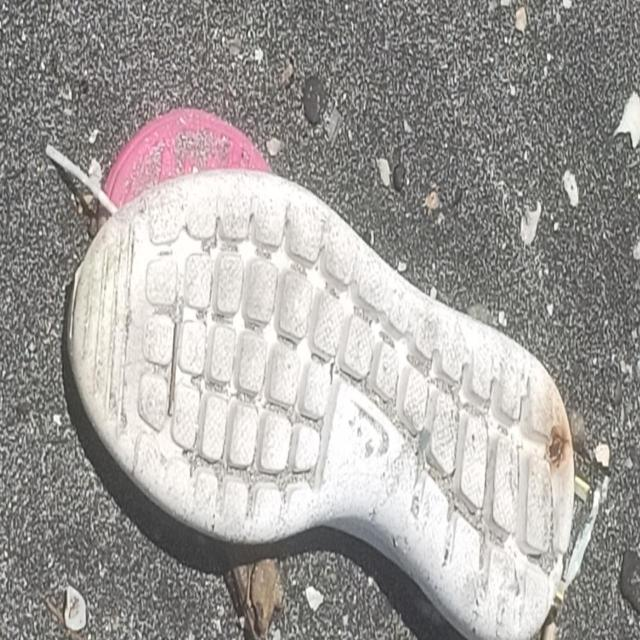rubber_waste: (66, 164, 580, 640)
